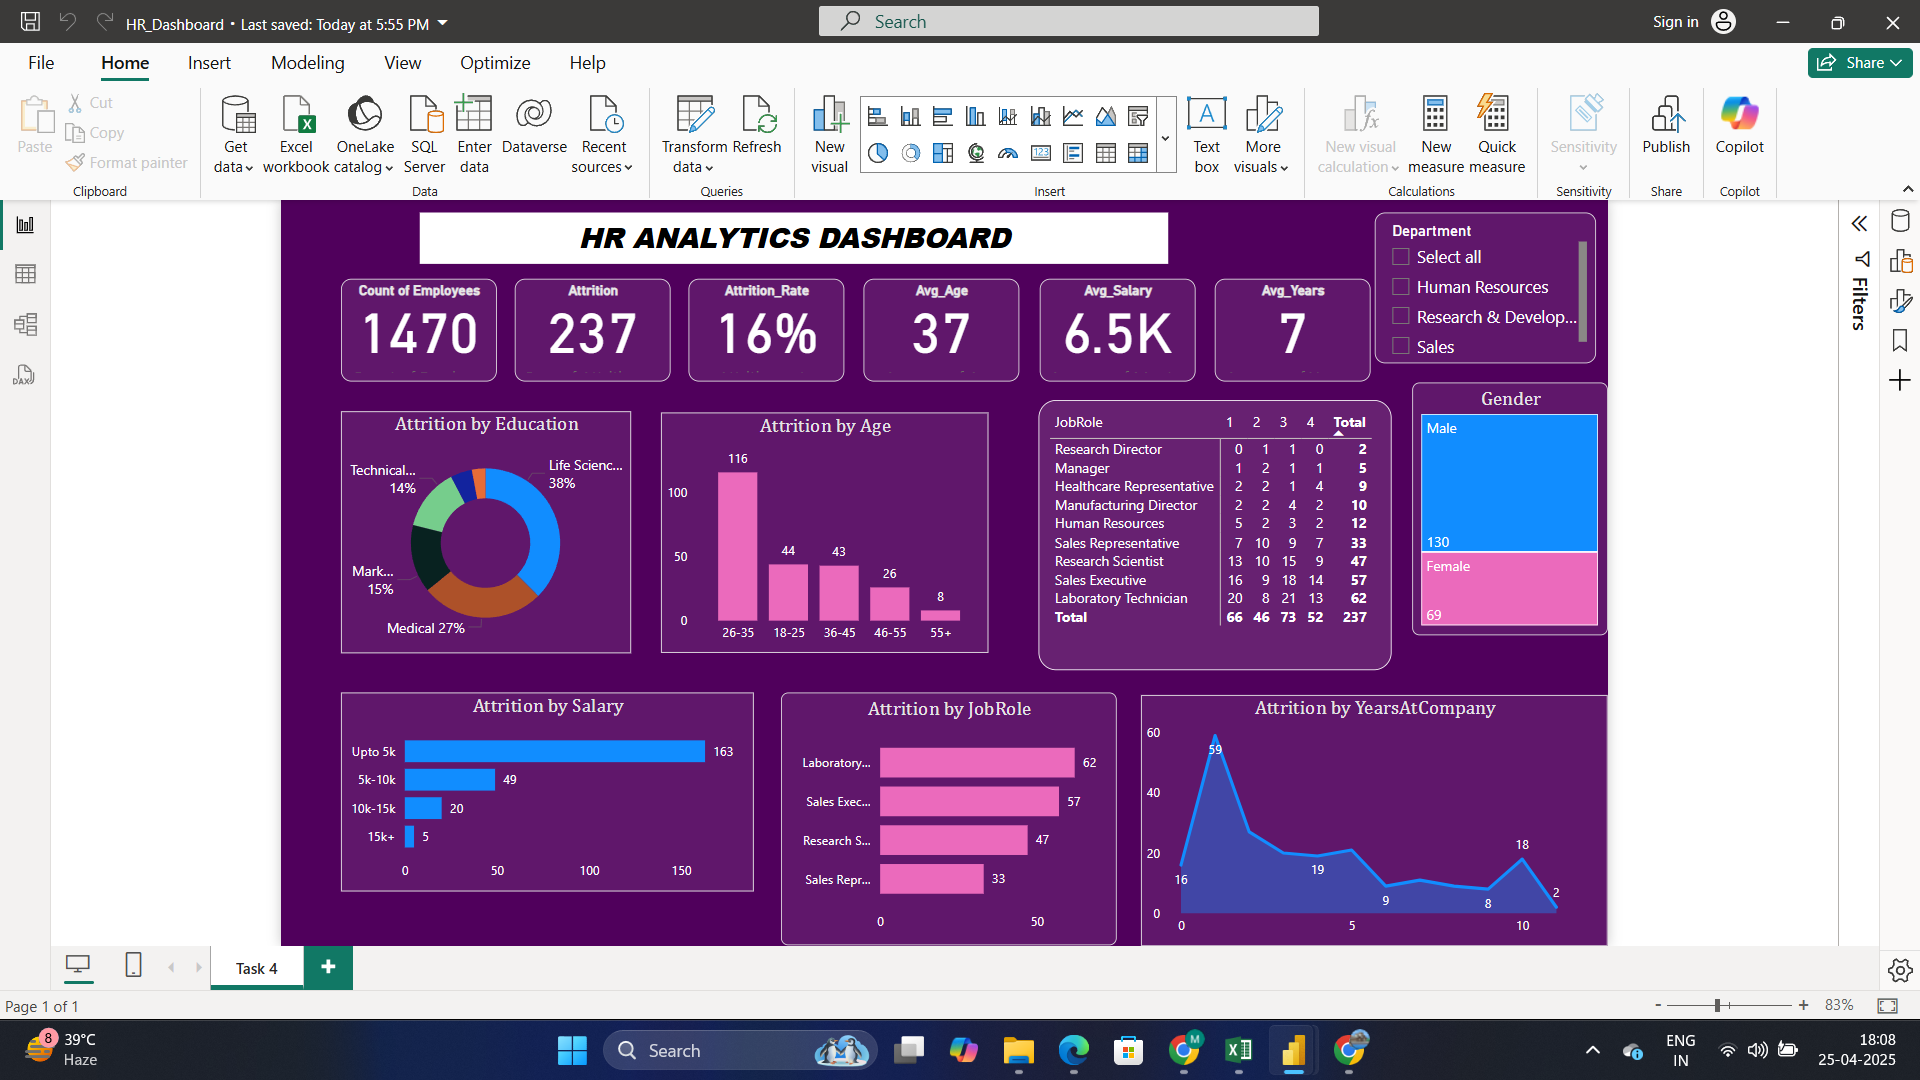

What the dashboard file says about the page in this screenshot:
{"tool":"powerbi","page":{"name":"Task 4","canvas":[1280,720],"ordinal":0},"visuals":[{"type":"card","title":"Count of Employees","fields":{"Values":["CountNonNull(HR_Analytics.EmployeeCount)"]},"box":[58.4,76.1,150,99.6],"z":0},{"type":"card","title":"Attrition","fields":{"Values":["Sum(HR_Analytics.Attrition_count)"]},"box":[225.8,76.1,150,99.6],"z":1000},{"type":"card","title":"Attrition_Rate","fields":{"Values":["HR_Analytics.Attrition_rate"]},"box":[393.2,76.1,150,99.6],"z":2000},{"type":"card","title":"Avg_Age","fields":{"Values":["Avg(HR_Analytics.Age)"]},"box":[562,76.1,150,99.6],"z":3000},{"type":"card","title":"Avg_Salary","fields":{"Values":["Avg(HR_Analytics.MonthlyIncome)"]},"box":[732.2,76.1,150,99.6],"z":4000},{"type":"card","title":"Avg_Years","fields":{"Values":["Avg(HR_Analytics.YearsAtCompany)"]},"box":[901,76.1,150,99.6],"z":5000},{"type":"donutChart","title":"Attrition by Education","fields":{"Category":["HR_Analytics.EducationField"],"Y":["Sum(HR_Analytics.Attrition_count)"]},"box":[58.4,203.9,279.9,233.7],"z":6000},{"type":"columnChart","title":"Attrition by Age","fields":{"Category":["HR_Analytics.AgeGroup"],"Y":["Sum(HR_Analytics.Attrition_count)"]},"box":[366.6,205.7,316,232.3],"z":7000},{"type":"pivotTable","fields":{"Rows":["HR_Analytics.JobRole"],"Columns":["HR_Analytics.JobSatisfaction"],"Values":["Sum(HR_Analytics.Attrition_count)"]},"box":[731.6,192.7,340.5,261.1],"z":8000},{"type":"clusteredBarChart","title":"Attrition by Salary","fields":{"Category":["HR_Analytics.SalarySlab"],"Y":["Sum(HR_Analytics.Attrition_count)"]},"box":[57.9,475.5,398.2,191.9],"z":9000},{"type":"clusteredBarChart","title":"Attrition by JobRole","fields":{"Y":["Sum(HR_Analytics.Attrition_count)"],"Category":["HR_Analytics.JobRole"]},"box":[483,475.4,323.9,243.8],"z":10000},{"type":"areaChart","title":"Attrition by YearsAtCompany","fields":{"Category":["HR_Analytics.YearsAtCompany"],"Y":["Sum(HR_Analytics.Attrition_count)"]},"box":[830.1,477.2,450.3,242.1],"z":11000},{"type":"treemap","title":"Gender","fields":{"Values":["Sum(HR_Analytics.Attrition_count)"],"Group":["HR_Analytics.Gender"]},"box":[1091.7,176.4,188.7,243.8],"z":12000},{"type":"slicer","fields":{"Values":["HR_Analytics.Department"]},"box":[1055.6,12.1,213.5,146],"z":13000},{"type":"textbox","box":[133.9,12.1,722.7,49.5],"z":13001}]}

Visuals, with their boxes on the page's 1280x720 design canvas (x1, y1, x2, y2). These are canvas units, not pixel positions in the 1920x1080 screenshot, which may show the page scaled, cropped or inside an application window:
"Count of Employees" card: (left=58, top=76, right=208, bottom=176)
"Attrition" card: (left=226, top=76, right=376, bottom=176)
"Attrition_Rate" card: (left=393, top=76, right=543, bottom=176)
"Avg_Age" card: (left=562, top=76, right=712, bottom=176)
"Avg_Salary" card: (left=732, top=76, right=882, bottom=176)
"Avg_Years" card: (left=901, top=76, right=1051, bottom=176)
"Attrition by Education" donutChart: (left=58, top=204, right=338, bottom=438)
"Attrition by Age" columnChart: (left=367, top=206, right=683, bottom=438)
pivotTable - HR_Analytics.JobRole x HR_Analytics.JobSatisfaction: (left=732, top=193, right=1072, bottom=454)
"Attrition by Salary" clusteredBarChart: (left=58, top=476, right=456, bottom=667)
"Attrition by JobRole" clusteredBarChart: (left=483, top=475, right=807, bottom=719)
"Attrition by YearsAtCompany" areaChart: (left=830, top=477, right=1280, bottom=719)
"Gender" treemap: (left=1092, top=176, right=1280, bottom=420)
slicer - HR_Analytics.Department: (left=1056, top=12, right=1269, bottom=158)
textbox: (left=134, top=12, right=857, bottom=62)
